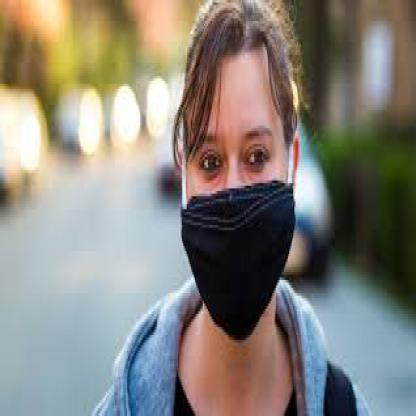Wearing_Mask: (176, 42, 296, 330)
